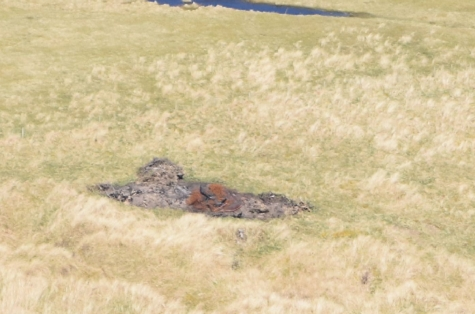white_in_green: (172, 163, 254, 232)
